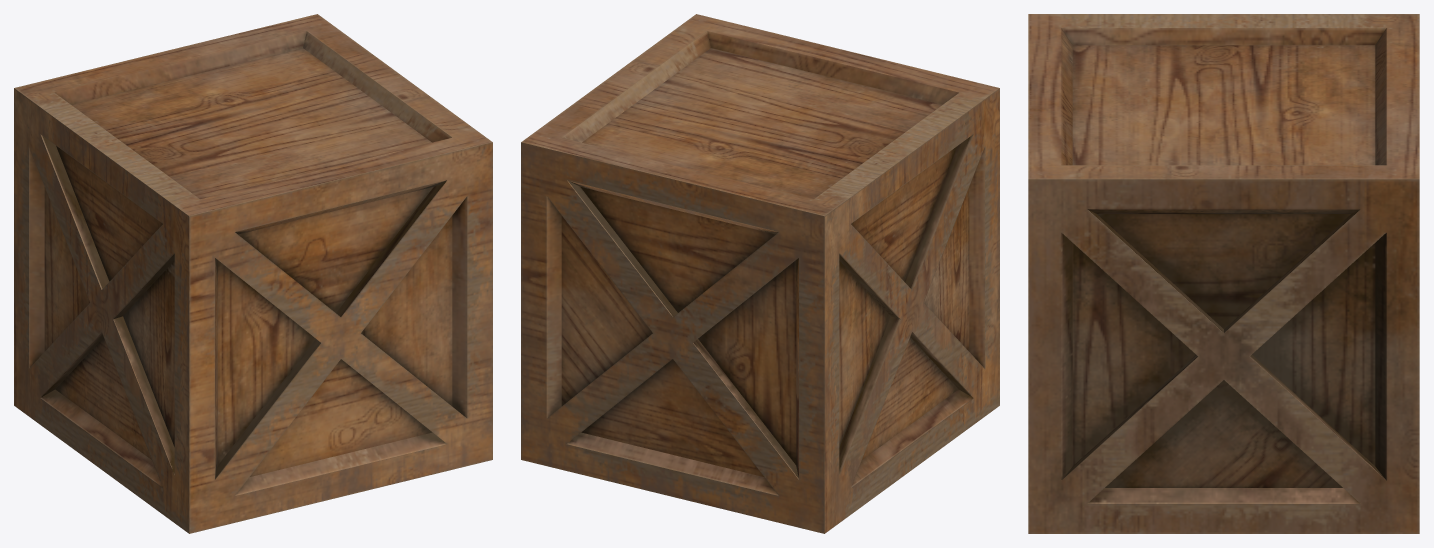
3 renders of one model, left to right at view 1: azimuth 30°, elevation 25°; view 2: azimuth 150°, elevation 25°; view 3: azimuth 270°, elevation 25°, orthographic. The views are drawn at different scales.
Visible parts, largest first — view 1: Crate; view 2: Crate; view 3: Crate.
Boxes of the visible parts, x1=… form: Crate: x1=14, y1=14, x2=492, y2=533; Crate: x1=521, y1=14, x2=999, y2=533; Crate: x1=1028, y1=14, x2=1419, y2=533.
Bounding box in the file's own units: 83.61 × 83.61 × 83.61.
